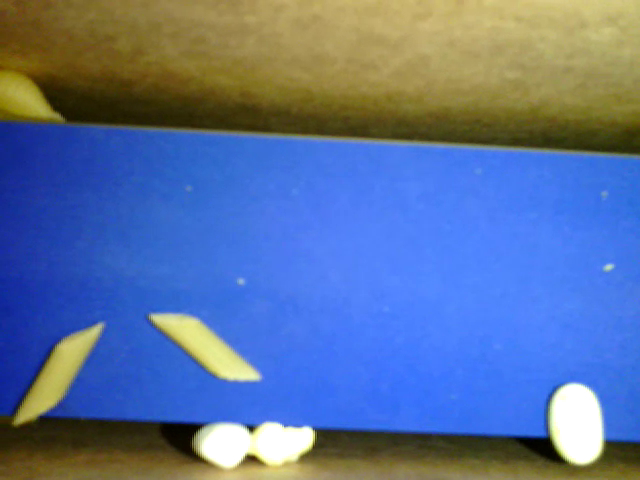penne: (11, 322, 104, 429), (147, 311, 262, 383)
shell: (2, 69, 67, 127)
